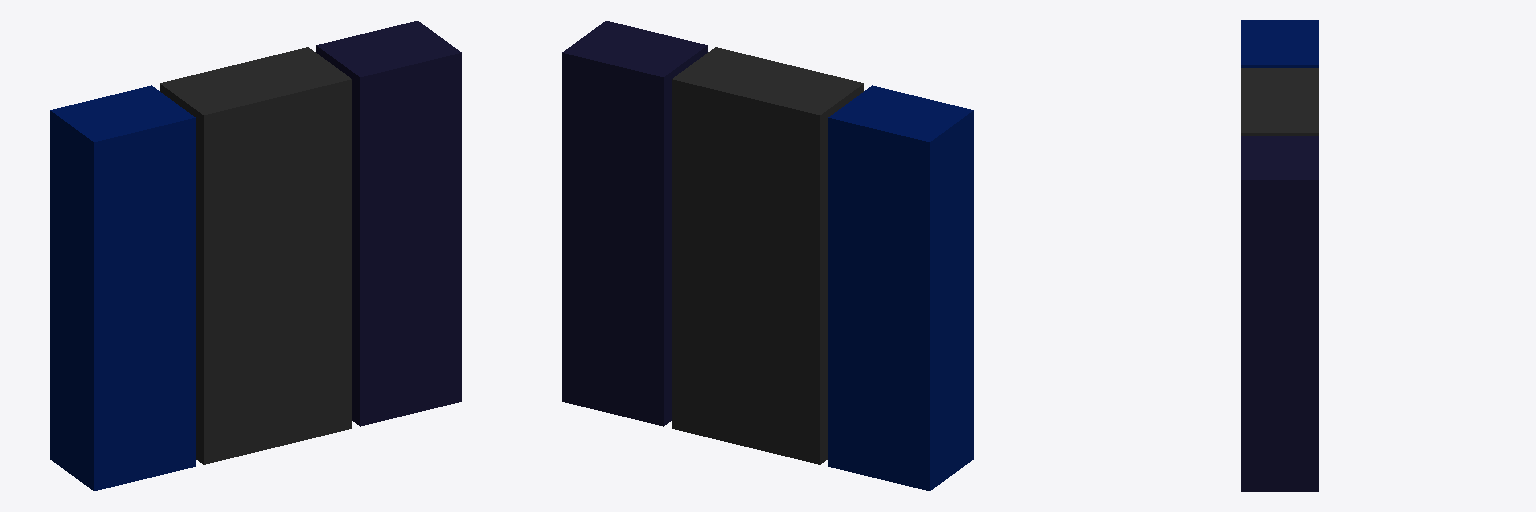
robot.urdf — GeneratedRobot:
<robot name="GeneratedRobot">
  <link name="base_link">
    <visual>
      <origin xyz="0 0 0.5" rpy="0 0 0" />
      <geometry>
        <box size="0.46796655054122455 0.2399913173327918 1.0514391556143112" />
      </geometry>
      <material name="base_material">
        <color rgba="0.2 0.2 0.2 1" />
      </material>
    </visual>
    <collision>
      <origin xyz="0 0 0.5" rpy="0 0 0" />
      <geometry>
        <box size="0.46796655054122455 0.2399913173327918 1.0514391556143112" />
      </geometry>
    </collision>
    <inertial>
      <origin xyz="0 0 0.5" rpy="0 0 0" />
      <mass value="10" />
      <inertia ixx="0.1" ixy="0" ixz="0" iyy="0.1" iyz="0" izz="0.1" />
    </inertial>
  </link>
  
  <link name="arm1">
    <visual>
      <origin xyz="0 0 0" rpy="0 0 0" />
      <geometry>
        <box size="0.05 0.05 0.5" />
      </geometry>
      <material name="arm_material">
        <color rgba="0.5 0.5 0.5 1" />
      </material>
    </visual>
    <collision>
      <origin xyz="0 0 0" rpy="0 0 0" />
      <geometry>
        <box size="0.05 0.05 0.5" />
      </geometry>
    </collision>
    <inertial>
      <origin xyz="0 0 0" rpy="0 0 0" />
      <mass value="0.1" />
      <inertia ixx="0.0001" ixy="0" ixz="0" iyy="0.0001" iyz="0" izz="0.0001" />
    </inertial>
  </link>

  <link name="arm2">
    <visual>
      <origin xyz="0 0 0" rpy="0 0 0" />
      <geometry>
        <box size="0.05 0.05 0.5" />
      </geometry>
      <material name="arm_material" />
    </visual>
    <collision>
      <origin xyz="0 0 0" rpy="0 0 0" />
      <geometry>
        <box size="0.05 0.05 0.5" />
      </geometry>
    </collision>
    <inertial>
      <origin xyz="0 0 0" rpy="0 0 0" />
      <mass value="0.1" />
      <inertia ixx="0.0001" ixy="0" ixz="0" iyy="0.0001" iyz="0" izz="0.0001" />
    </inertial>
  </link>
  
  <link name="cube2">
    <visual>
      <origin xyz="0 0 0" rpy="0 0 0" />
      <geometry>
        <box size="0.32 0.24 1.05" />
      </geometry>
      <material name="cube2_material">
        <color rgba="0.11443537381770343 0.11193242782769693 0.23455058215026167 1" />
      </material>
    </visual>
    <collision>
      <origin xyz="0 0 0" rpy="0 0 0" />
      <geometry>
        <box size="0.32 0.24 1.05" />
      </geometry>
    </collision>
    <inertial>
      <origin xyz="0 0 0" rpy="0 0 0" />
      <mass value="10" />
      <inertia ixx="0.1" ixy="0" ixz="0" iyy="0.1" iyz="0" izz="0.1" />
    </inertial>
  </link>

  <link name="cube3">
    <visual>
      <origin xyz="0 0 0" rpy="0 0 0" />
      <geometry>
        <box size="0.32 0.24 1.05" />
      </geometry>
      <material name="cube3_material">
        <color rgba="0.026241221889696346 0.13286832154414627 0.4019777798219466 1" />
      </material>
    </visual>
    <collision>
      <origin xyz="0 0 0" rpy="0 0 0" />
      <geometry>
        <box size="0.32 0.24 1.05" />
      </geometry>
    </collision>
    <inertial>
      <origin xyz="0 0 0" rpy="0 0 0" />
      <mass value="10" />
      <inertia ixx="0.1" ixy="0" ixz="0" iyy="0.1" iyz="0" izz="0.1" />
    </inertial>
  </link>

  <joint name="base_link_to_arm1" type="prismatic">
    <parent link="base_link" />
    <child link="arm1" />
    <origin xyz="0.234 0 0.5" rpy="0 0 0" />
    <axis xyz="0 0 1"/>
    <limit effort="1000.0" lower="0.0" upper="0.5" velocity="0.5"/>
  </joint>

  <joint name="arm1_to_cube2" type="revolute">
    <parent link="arm1" />
    <child link="cube2" />
    <origin xyz="0.185 0 0" rpy="0 0 0" />
    <axis xyz="1 0 0"/>
    <limit effort="10.0" lower="-1.57" upper="1.57" velocity="10"/>
  </joint>

  <joint name="base_link_to_arm2" type="prismatic">
    <parent link="base_link" />
    <child link="arm2" />
    <origin xyz="-0.234 0 0.5" rpy="0 0 0" />
    <axis xyz="0 0 1"/>
    <limit effort="1000.0" lower="0.0" upper="0.5" velocity="0.5"/>
  </joint>

  <joint name="arm2_to_cube3" type="revolute">
    <parent link="arm2" />
    <child link="cube3" />
    <origin xyz="-0.185 0 0" rpy="0 0 0" />
    <axis xyz="1 0 0"/>
    <limit effort="10.0" lower="-1.57" upper="1.57" velocity="10"/>
  </joint>

  <ros2_control name="GeneratedRobot_control" type="system">
    <hardware>
      <plugin>gazebo_ros2_control/GazeboSystem</plugin>
    </hardware>
    <joint name="base_link_to_arm1">
      <command_interface name="position">
        <param name="min">0.0</param>
        <param name="max">0.5</param>
      </command_interface>
      <state_interface name="position"/>
      <state_interface name="velocity"/>
    </joint>
    <joint name="arm1_to_cube2">
      <command_interface name="position">
        <param name="min">-1.57</param>
        <param name="max">1.57</param>
      </command_interface>
      <state_interface name="position"/>
      <state_interface name="velocity"/>
    </joint>
    <joint name="base_link_to_arm2">
      <command_interface name="position">
        <param name="min">0.0</param>
        <param name="max">0.5</param>
      </command_interface>
      <state_interface name="position"/>
      <state_interface name="velocity"/>
    </joint>
    <joint name="arm2_to_cube3">
      <command_interface name="position">
        <param name="min">-1.57</param>
        <param name="max">1.57</param>
      </command_interface>
      <state_interface name="position"/>
      <state_interface name="velocity"/>
    </joint>
  </ros2_control>
</robot>

--- Facts derived from the render (not from the file) ---
Views: 3 orthographic renders of the robot side by side, from view 1: azimuth 30°, elevation 25°; view 2: azimuth 150°, elevation 25°; view 3: azimuth 270°, elevation 25°.
Model GeneratedRobot with 5 links and 4 joints (2 revolute, 2 prismatic), rooted at base_link, posed all joints at 0.
Links seen in each view (by area): view 1: base_link, cube3, cube2; view 2: base_link, cube3, cube2; view 3: cube2, base_link, cube3.
Link boxes in pixels (x1,y1,x2,y2): base_link: (160, 47, 351, 464); cube3: (50, 85, 195, 490); cube2: (316, 21, 461, 426); base_link: (672, 47, 863, 464); cube3: (828, 85, 973, 490); cube2: (562, 21, 707, 426); cube2: (1241, 136, 1318, 491); base_link: (1241, 68, 1318, 135); cube3: (1241, 20, 1318, 67).
Size in the robot's own frame: 1.16 by 0.24 by 1.05 metres.
Geometry: primitives only (box / cylinder / sphere), no mesh files.